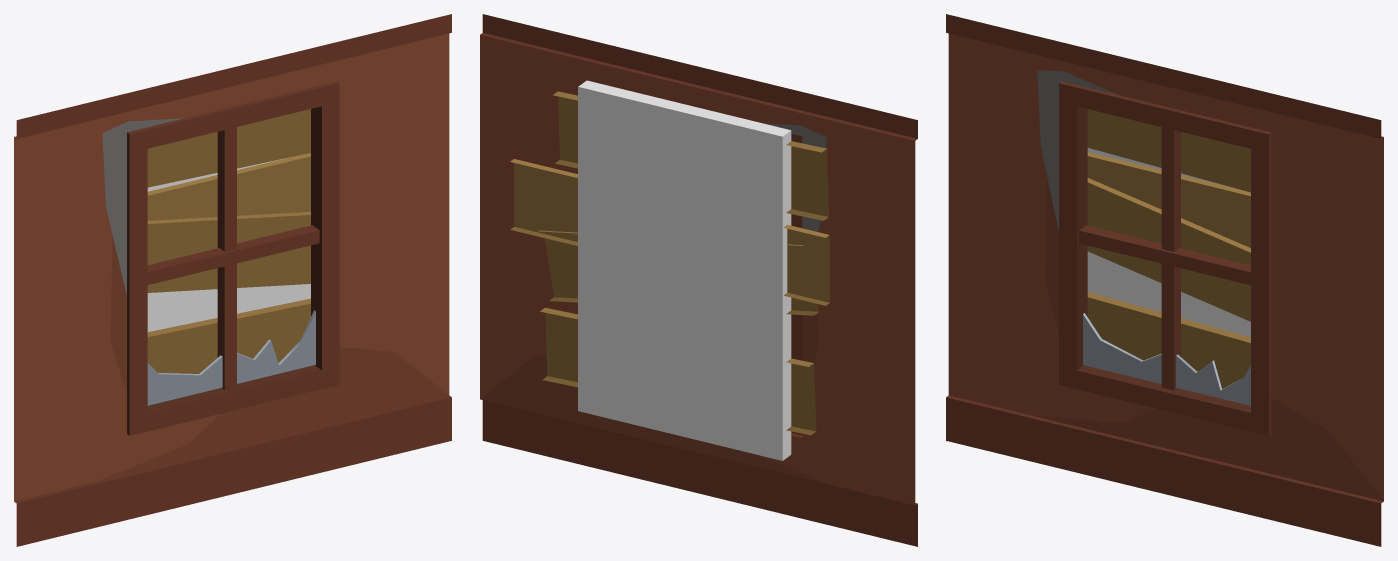
Rendered from AI_Env_Wall_Red_Window_01.fbx.
3 renders of one model, left to right at view 1: azimuth 30°, elevation 25°; view 2: azimuth 150°, elevation 25°; view 3: azimuth 330°, elevation 25°, orthographic.
Visible parts, largest first — view 1: AI_Env_Wall_Red_Window_01; view 2: AI_Env_Wall_Red_Window_01; view 3: AI_Env_Wall_Red_Window_01.
Boxes of the visible parts, x1,y1,x2,y2 form: AI_Env_Wall_Red_Window_01: (14, 14, 451, 546); AI_Env_Wall_Red_Window_01: (480, 14, 917, 546); AI_Env_Wall_Red_Window_01: (946, 14, 1383, 546).
Bounding box in the file's own units: 5 × 4.69 × 0.3888.
